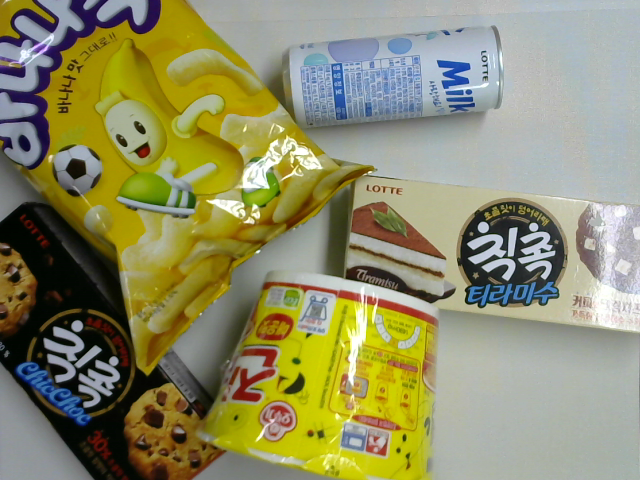Banana_Kick: (1, 1, 378, 386)
Chicchok_Original_2400: (1, 191, 234, 480)
Chicchok_Tiramisu: (342, 170, 640, 339)
Jinlamyeon_Hot_Taste_Large_Cup: (190, 266, 443, 480)
Milkies_250ml: (278, 21, 506, 137)
